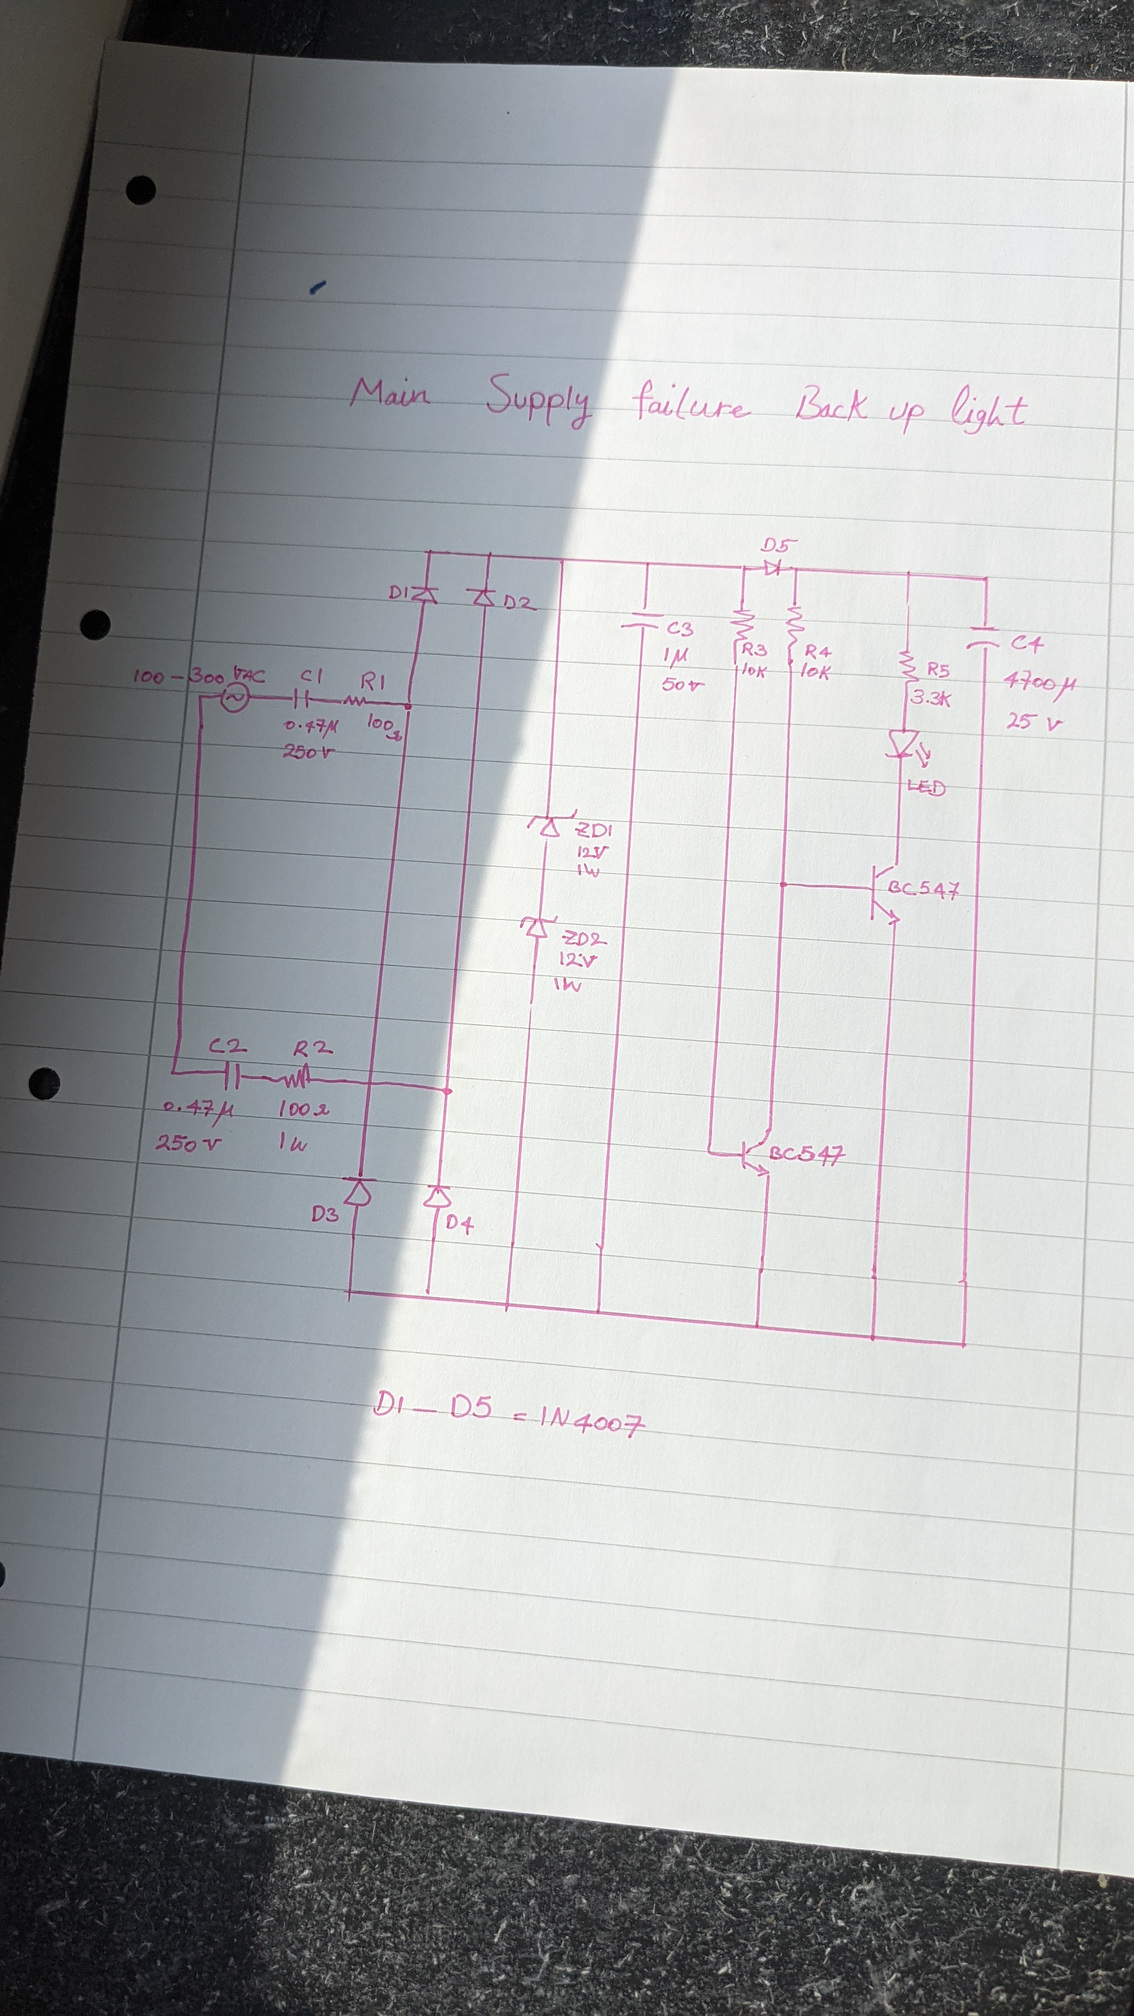capacitor.unpolarized: (619, 606, 667, 633), (964, 623, 1004, 652), (222, 1059, 246, 1092), (288, 685, 314, 712)
crossover: (361, 1077, 377, 1090)
diode: (526, 807, 580, 843), (338, 1173, 379, 1207), (518, 914, 559, 942), (422, 1181, 456, 1212), (462, 587, 498, 609), (408, 584, 442, 608), (762, 558, 785, 577)
diode.light_emitting: (882, 727, 933, 770)
junction: (399, 698, 415, 716), (498, 1297, 514, 1315), (342, 1286, 360, 1302), (421, 1288, 436, 1304), (439, 1083, 456, 1098), (591, 1304, 606, 1320), (980, 573, 996, 588), (955, 1338, 972, 1351), (901, 568, 915, 583), (750, 1320, 764, 1333), (865, 1331, 879, 1344), (737, 562, 750, 575), (557, 554, 570, 566), (485, 548, 497, 562), (422, 547, 436, 559), (791, 564, 803, 576), (168, 1066, 179, 1079), (703, 1146, 714, 1159), (777, 881, 791, 890), (195, 692, 206, 702), (642, 559, 652, 568)
resistor: (727, 606, 757, 645), (276, 1061, 314, 1091), (784, 601, 807, 649), (896, 647, 921, 688), (338, 692, 368, 708)
text: (348, 368, 1030, 439), (371, 1387, 648, 1441), (132, 663, 267, 685), (1001, 667, 1077, 703), (161, 1097, 235, 1128), (767, 1144, 847, 1169), (886, 879, 962, 901), (152, 1133, 224, 1153), (1002, 710, 1063, 732), (277, 1097, 332, 1120), (282, 717, 341, 739), (366, 712, 404, 744), (282, 742, 336, 762), (908, 687, 953, 710), (559, 928, 609, 948), (906, 775, 948, 799), (757, 534, 799, 555), (208, 1034, 249, 1055), (558, 950, 600, 971), (1009, 633, 1045, 656), (443, 1212, 475, 1238), (277, 1127, 309, 1153), (292, 1037, 335, 1056), (660, 676, 706, 694), (573, 820, 613, 839), (309, 1202, 341, 1225), (503, 593, 539, 613), (662, 645, 690, 672), (551, 975, 584, 994), (666, 619, 695, 640), (800, 662, 831, 681), (360, 670, 386, 692), (741, 660, 768, 680), (576, 845, 611, 860), (804, 642, 832, 660), (299, 666, 324, 685), (926, 660, 951, 678), (741, 641, 768, 656), (576, 861, 601, 878), (388, 583, 408, 601)
transistor: (867, 860, 906, 926), (738, 1130, 775, 1180)
voltage.dc_ac: (219, 681, 251, 714)
